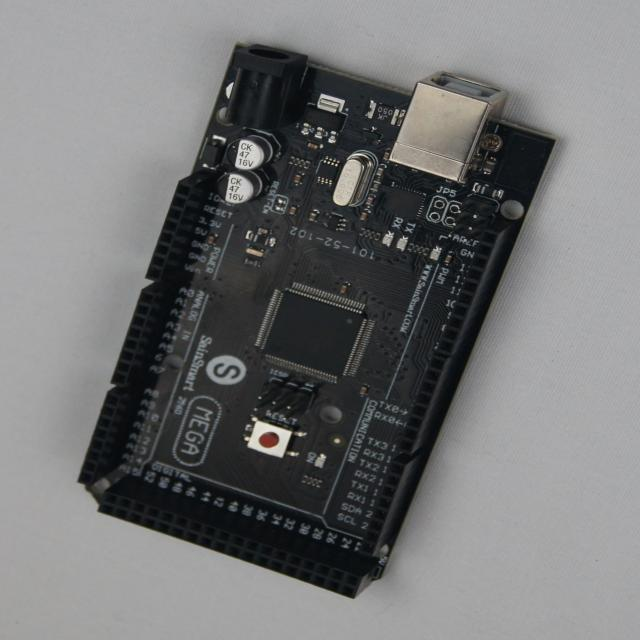Arduino Mega 2560 -Black-: (79, 45, 554, 598)
